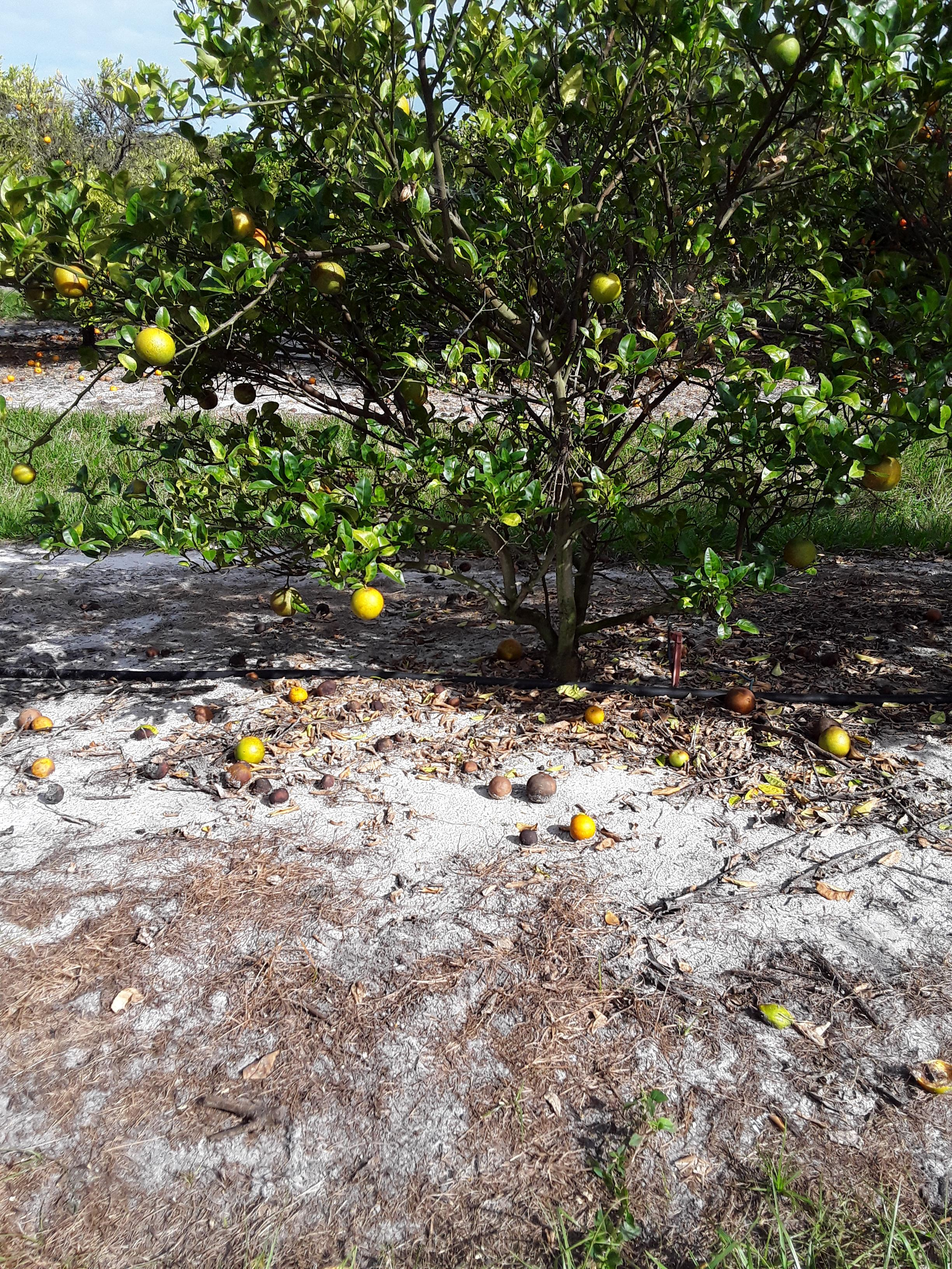fruit_on_ground: (765, 25, 805, 77), (136, 323, 174, 368), (310, 258, 347, 296), (590, 267, 622, 309), (269, 582, 306, 617), (396, 377, 427, 418), (866, 454, 900, 491), (356, 583, 387, 620), (785, 540, 817, 575), (51, 262, 80, 295), (229, 213, 254, 244), (917, 92, 945, 119), (192, 387, 220, 411), (233, 383, 256, 411), (124, 475, 150, 499), (246, 224, 269, 250), (12, 464, 34, 491), (913, 123, 932, 145), (41, 135, 52, 145)
fruit_on_tree: (524, 772, 556, 806), (822, 726, 850, 761), (236, 735, 263, 769), (16, 704, 46, 734), (569, 808, 593, 841), (497, 638, 523, 668), (732, 687, 758, 715), (486, 776, 510, 805), (227, 762, 251, 788), (669, 746, 692, 773), (30, 714, 55, 736), (584, 702, 605, 728), (29, 755, 51, 779), (289, 685, 310, 709), (816, 646, 838, 666), (194, 707, 214, 729), (268, 788, 291, 806), (317, 678, 338, 695), (318, 773, 336, 790), (925, 603, 941, 622), (462, 759, 479, 775), (432, 683, 447, 696), (631, 397, 643, 408), (306, 375, 319, 385), (6, 373, 17, 383), (50, 354, 61, 363), (109, 385, 119, 394), (1, 375, 10, 384), (77, 374, 86, 382), (35, 350, 43, 359), (34, 367, 44, 374), (28, 359, 35, 366)
